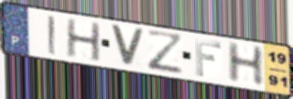F: (194, 38, 223, 78)
H: (225, 40, 266, 87), (65, 17, 103, 63)
I: (47, 14, 59, 57)
V: (108, 23, 147, 69)
Z: (145, 28, 186, 75)
